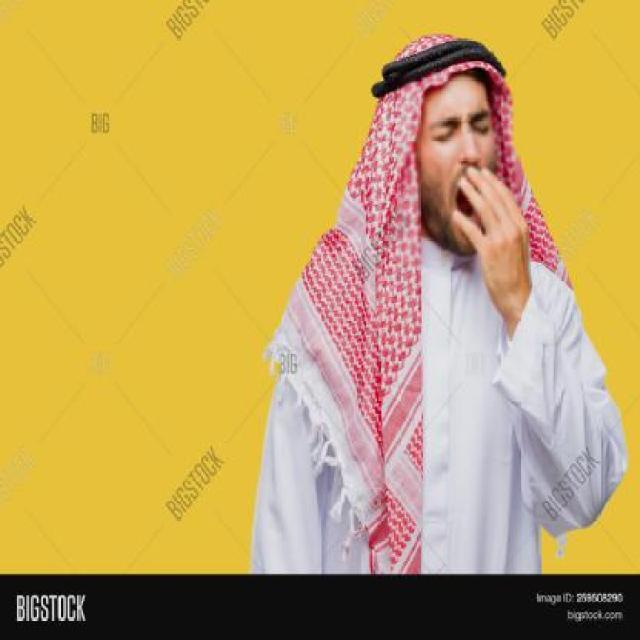sleepy: (413, 90, 505, 250)
